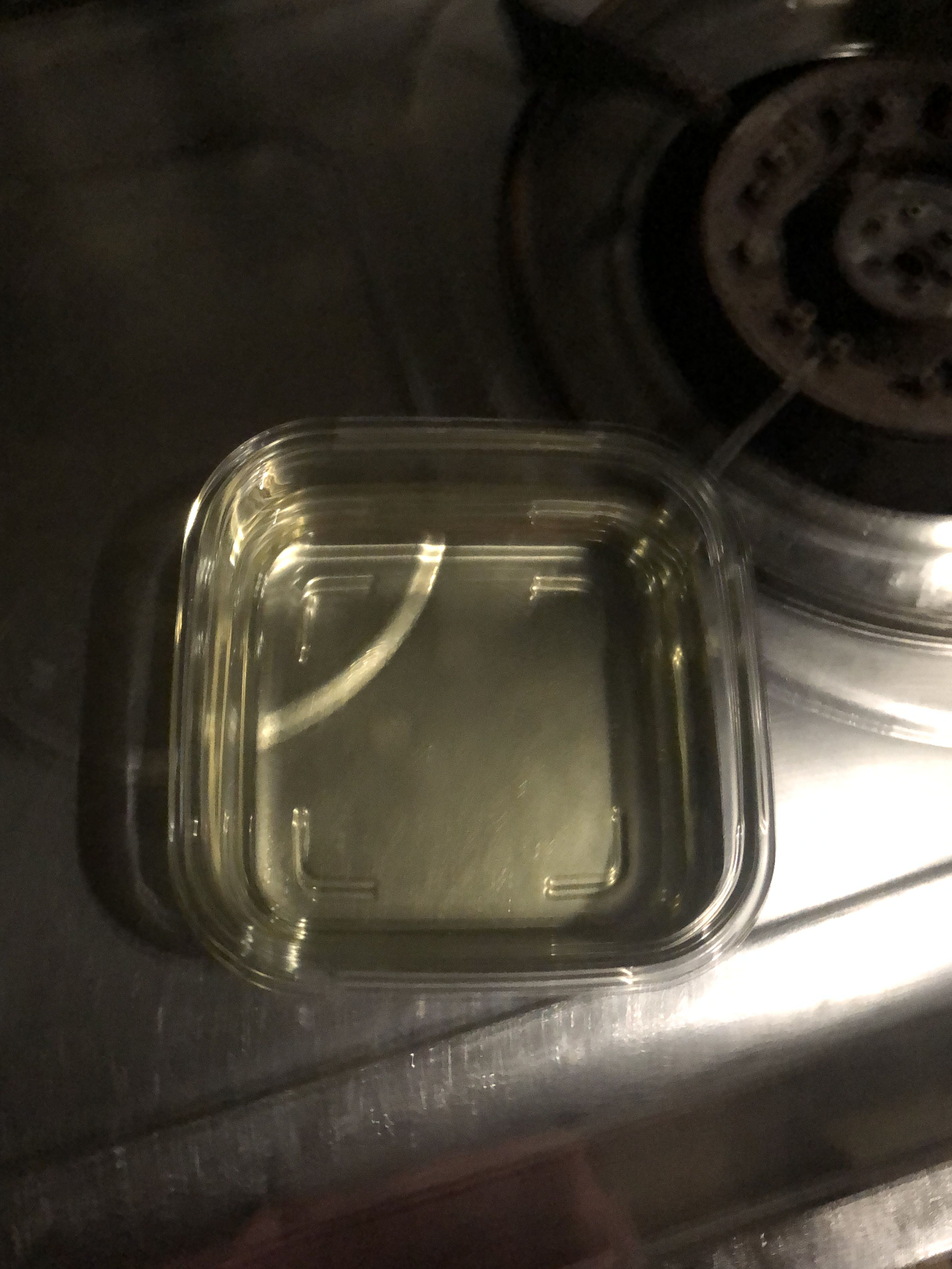reusable: (205, 482, 699, 932)
